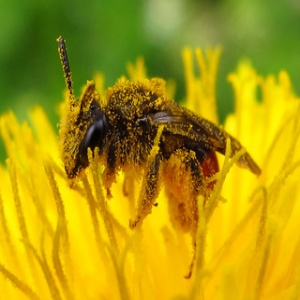bee: (56, 76, 266, 252)
